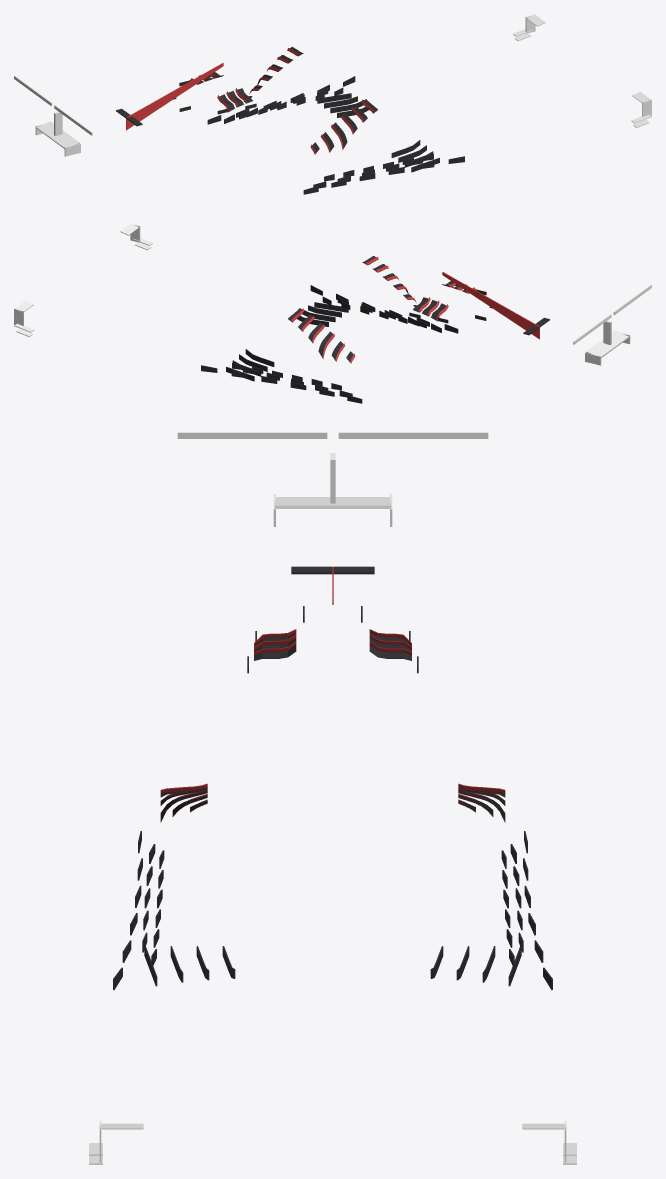
File: f1-car-mejoras-2026.glb
3 renders of one model, top to bottom at view 1: azimuth 30°, elevation 25°; view 2: azimuth 150°, elevation 25°; view 3: azimuth 270°, elevation 25°, orthographic. The views are drawn at different scales.
Parts seen in each view (by area): view 1: mejora_suelo_1, mejora_suelo_2, mejora_alerones_3, mejora_eficiencia_1, mejora_suelo_3, mejora_refrigeracion_2, mejora_alerones_2, mejora_refrigeracion_3, mejora_alerones_1, mejora_refrigeracion_1; view 2: mejora_suelo_1, mejora_suelo_2, mejora_alerones_3, mejora_eficiencia_1, mejora_suelo_3, mejora_refrigeracion_2, mejora_alerones_2, mejora_refrigeracion_3, mejora_alerones_1, mejora_refrigeracion_1; view 3: mejora_alerones_1, mejora_suelo_1, mejora_alerones_3, mejora_suelo_2, mejora_refrigeracion_1, mejora_refrigeracion_2, mejora_refrigeracion_3, mejora_alerones_2.
Boxes of the visible parts, x1,y1,x2,y2 form: mejora_suelo_1: (207,76,464,194); mejora_suelo_2: (224,88,426,188); mejora_alerones_3: (35,111,80,156); mejora_eficiencia_1: (126,63,223,130); mejora_suelo_3: (239,87,433,181); mejora_refrigeracion_2: (198,64,357,149); mejora_alerones_2: (514,14,651,127); mejora_refrigeracion_3: (189,47,377,122); mejora_alerones_1: (14,29,651,135); mejora_refrigeracion_1: (209,72,334,154); mejora_suelo_1: (201,285,458,403); mejora_suelo_2: (239,297,441,397); mejora_alerones_3: (585,320,630,365); mejora_eficiencia_1: (442,272,539,339); mejora_suelo_3: (232,296,426,390); mejora_refrigeracion_2: (308,273,467,358); mejora_alerones_2: (14,223,151,336); mejora_refrigeracion_3: (288,256,476,331); mejora_alerones_1: (14,238,651,344); mejora_refrigeracion_1: (331,281,456,363); mejora_alerones_1: (89,432,576,1155); mejora_suelo_1: (113,831,552,989); mejora_alerones_3: (273,453,392,526); mejora_suelo_2: (142,844,523,980); mejora_refrigeracion_1: (172,641,493,816); mejora_refrigeracion_2: (160,634,505,822); mejora_refrigeracion_3: (160,629,505,797); mejora_alerones_2: (89,1120,576,1164).
Bounding box in the file's own units: 4.53 × 0.8744 × 1.76.
